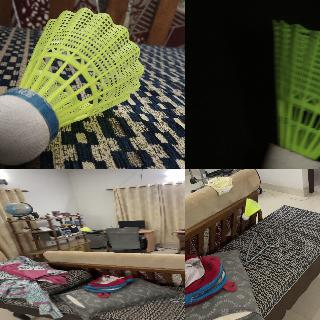shuttlecock: (0, 7, 145, 165), (262, 20, 319, 168), (242, 198, 260, 220), (81, 227, 92, 231)
